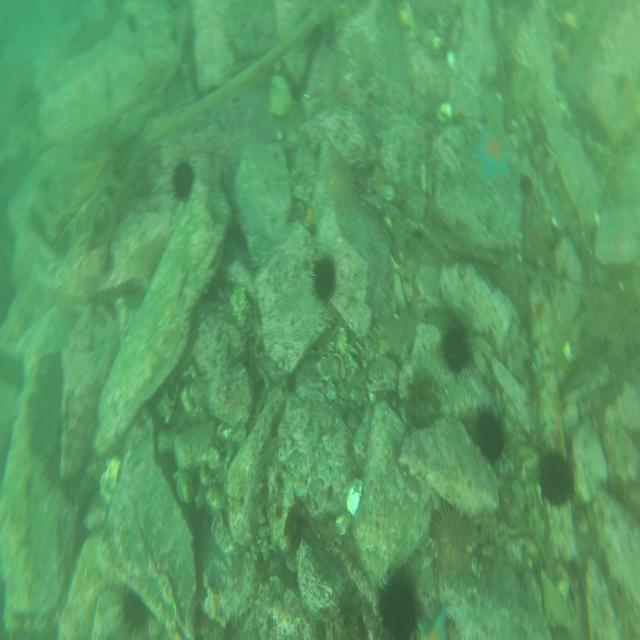echinus: (431, 497, 473, 573), (375, 568, 419, 640), (537, 450, 574, 511), (472, 405, 504, 461), (322, 150, 354, 205), (441, 326, 473, 376), (117, 584, 147, 634), (309, 255, 337, 305), (168, 156, 196, 204)
starfish: (474, 120, 511, 180)
